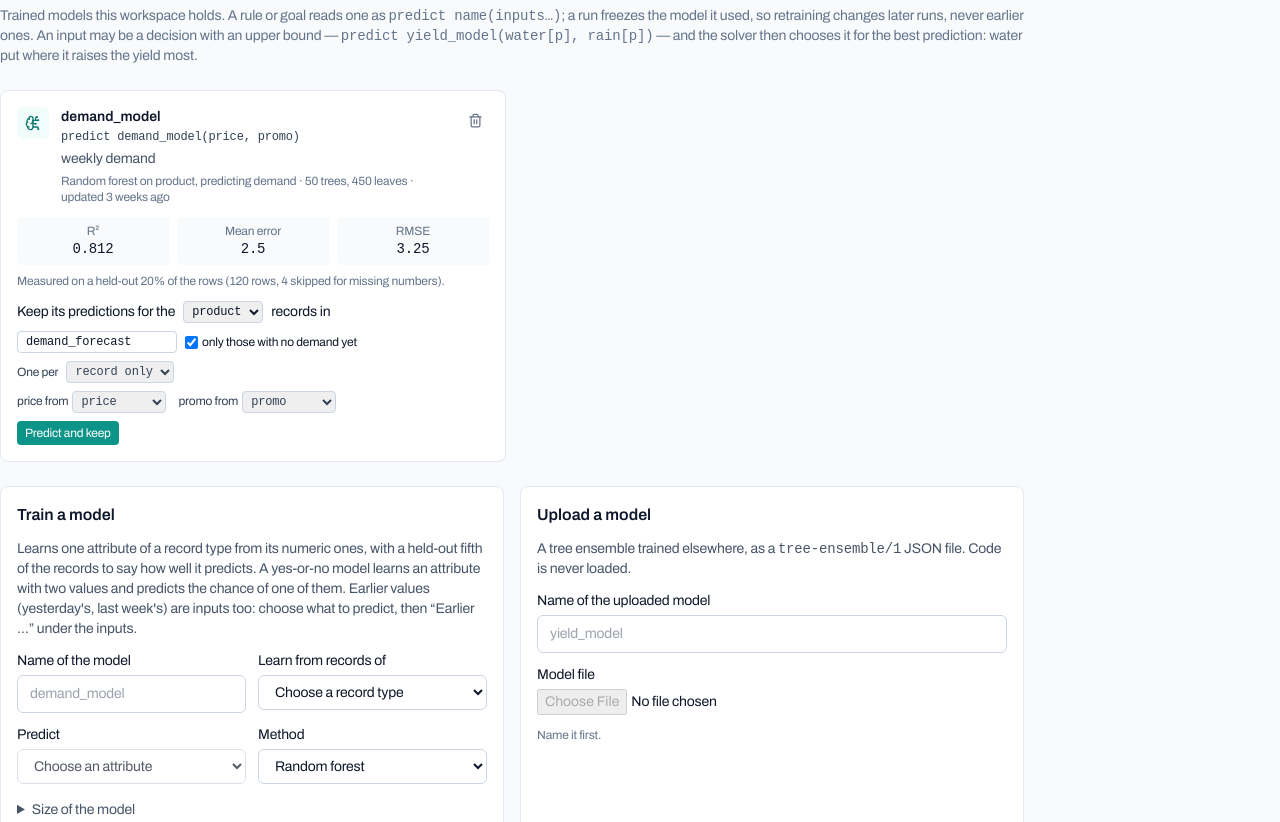
Test: makes number fields from a text, and keeps a model's predictions as data (benchmark, October 2026)
Step 1. Select "product" in the dropdown labelled "Learn from records of" → {"x": 372, "y": 692}, box [258,675,487,710]
(page scrolled)
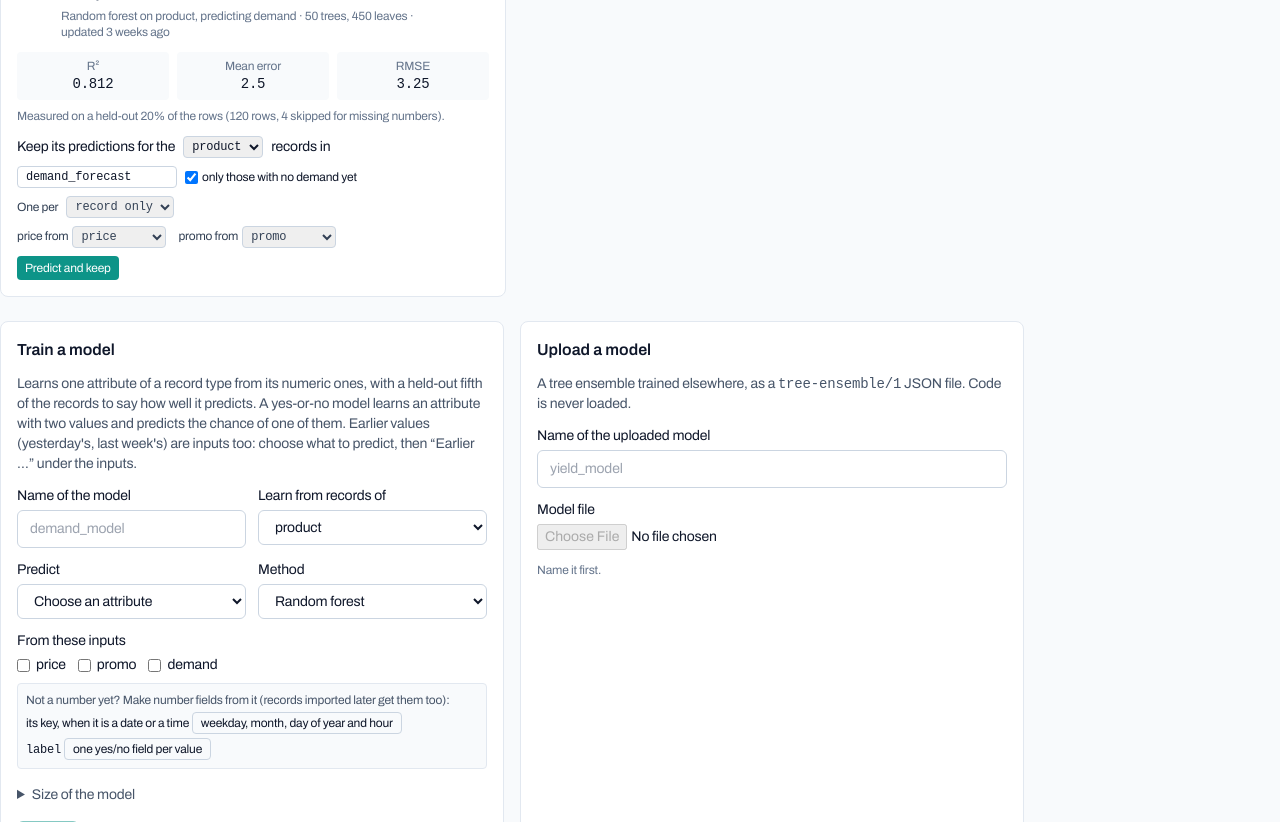
Step 2. Click the button "one yes/no field per value" → {"x": 138, "y": 749}, box [64,738,211,760]
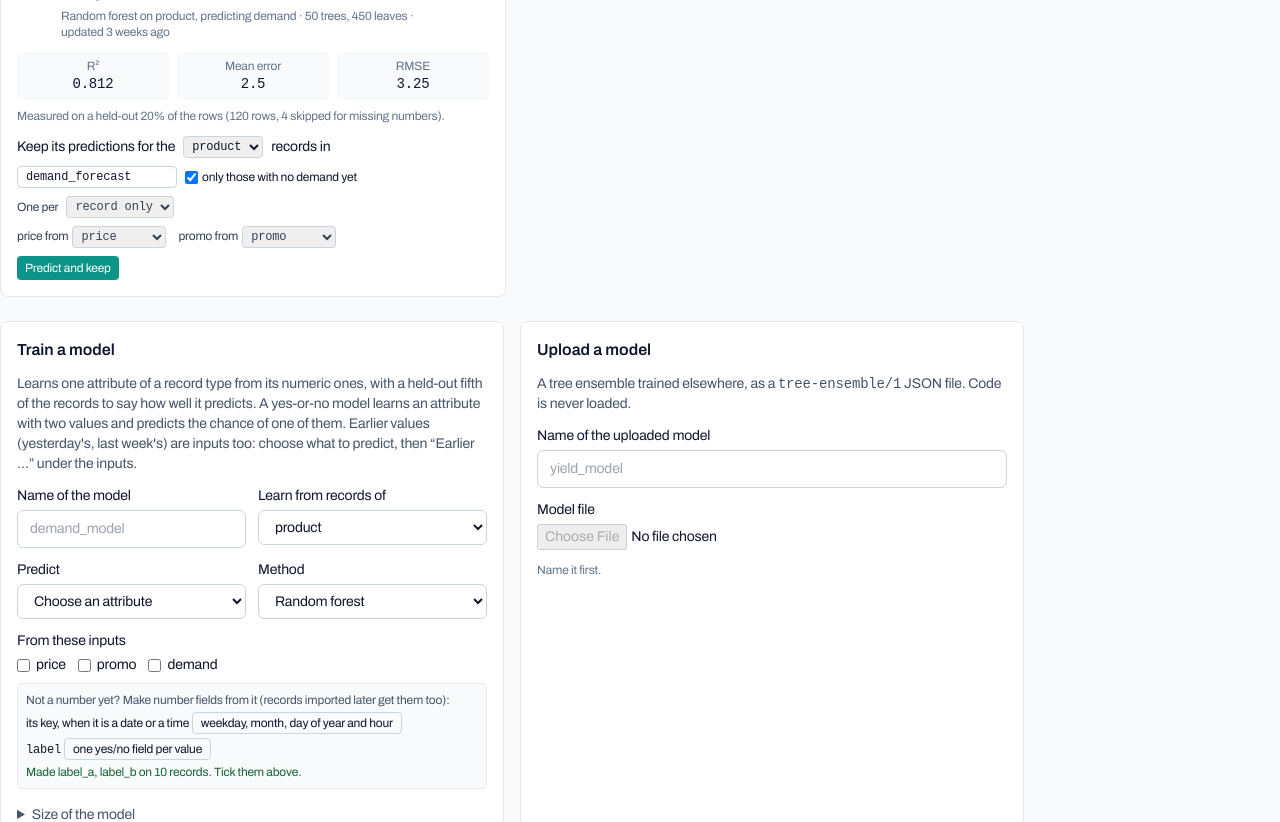
Expected: the field named "Field for the predictions" holds "demand_forecast", [17,166,177,188]
Expected: the text "Made label_a, label_b on 10 records. Tick them above." is shown, [26,765,301,779]
Step 3. Click the button "Predict and keep" → {"x": 68, "y": 268}, box [17,256,119,280]
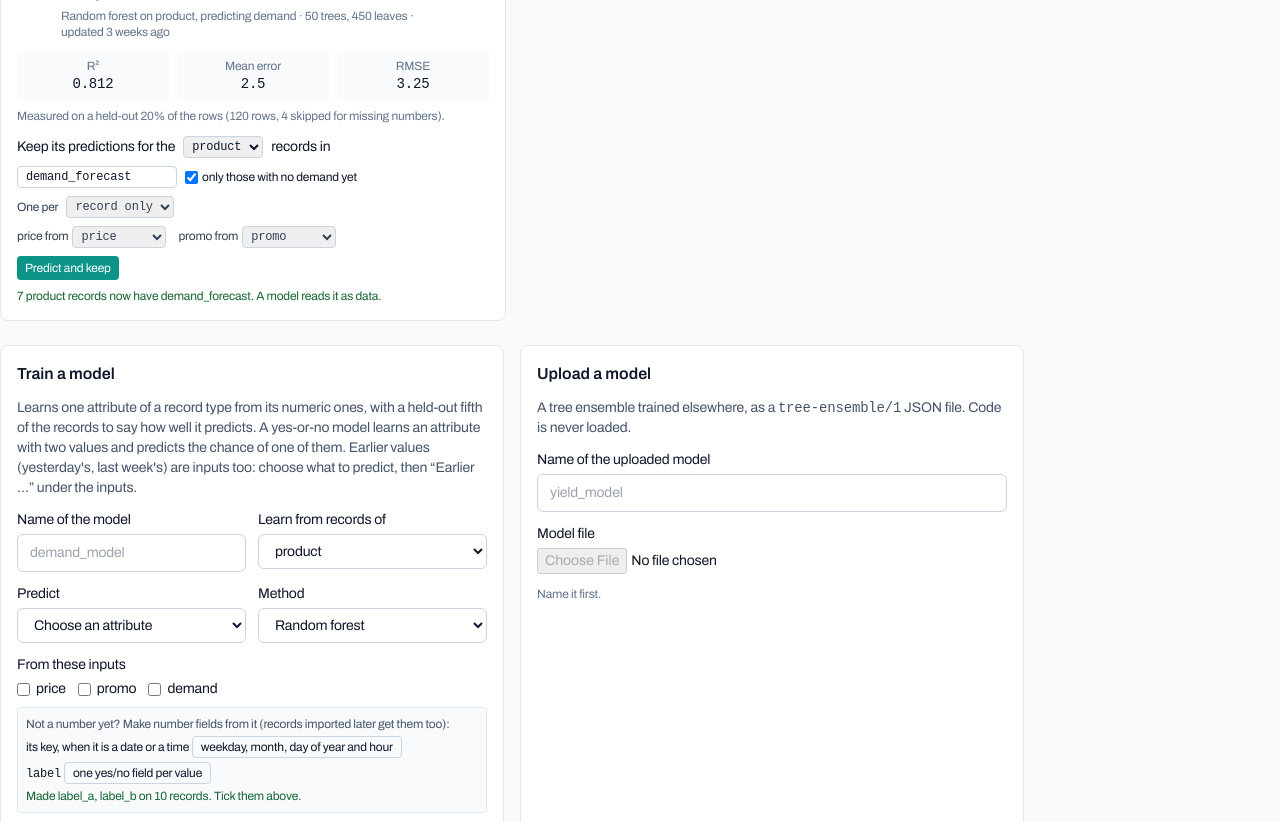
Expected: the text "7 product records now have demand_forecast. A model reads it as data." is shown, [17,289,381,303]
